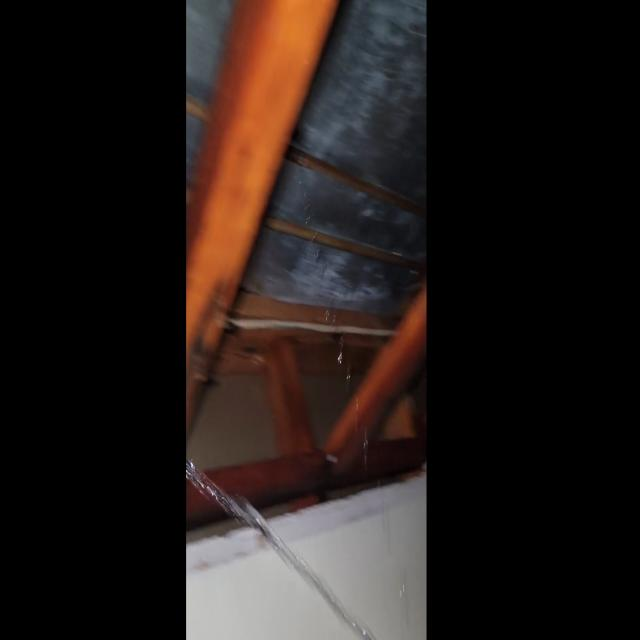leak: (186, 460, 375, 640)
